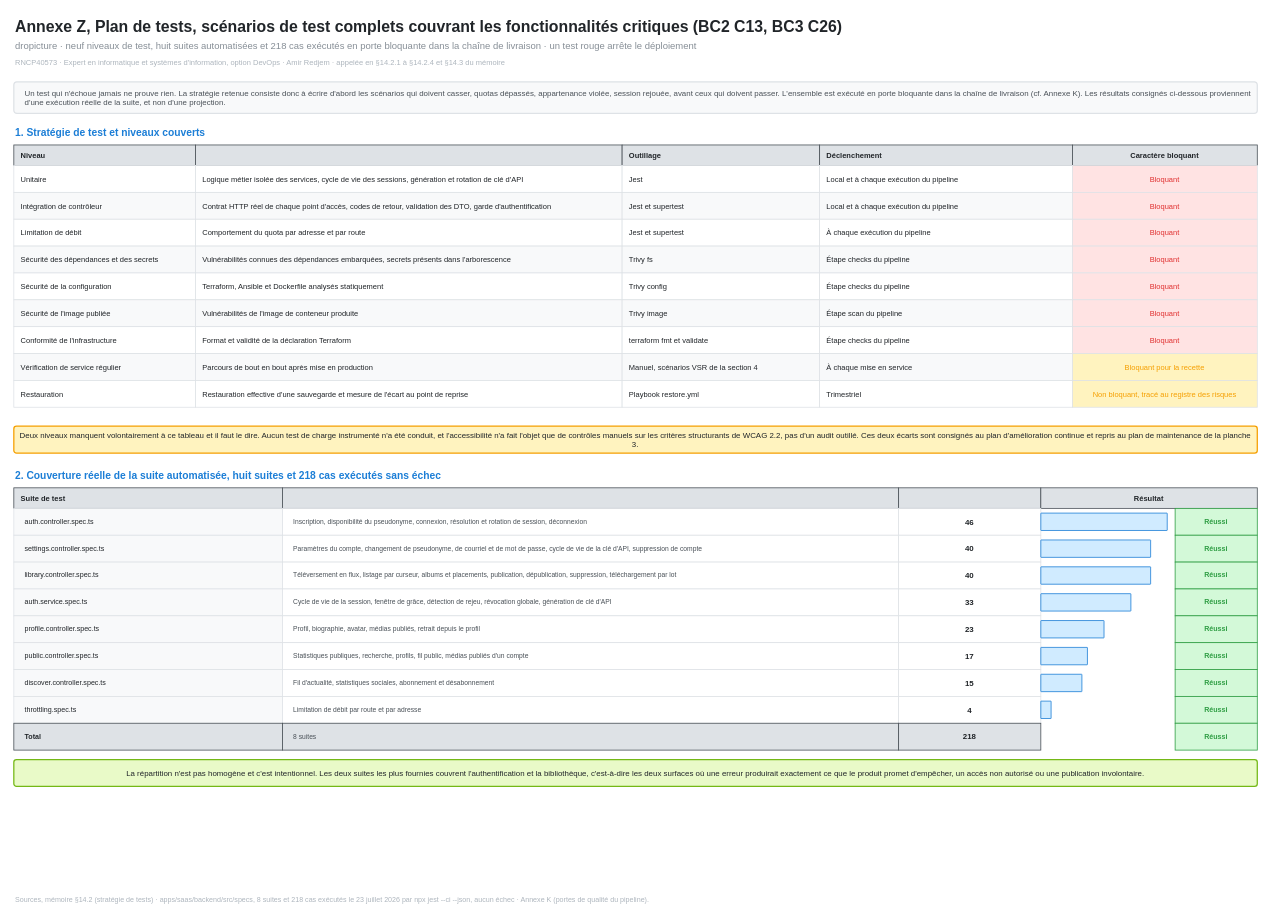
The diagram is 1272 pixels wide and 920 high, and some of its shapes have lost their labels. The centre of each missing label's shape, as x and y in pixels:
Cas exécutés: point (969, 497)
Objet du test: point (408, 155)
Périmètre couvert: point (590, 497)
